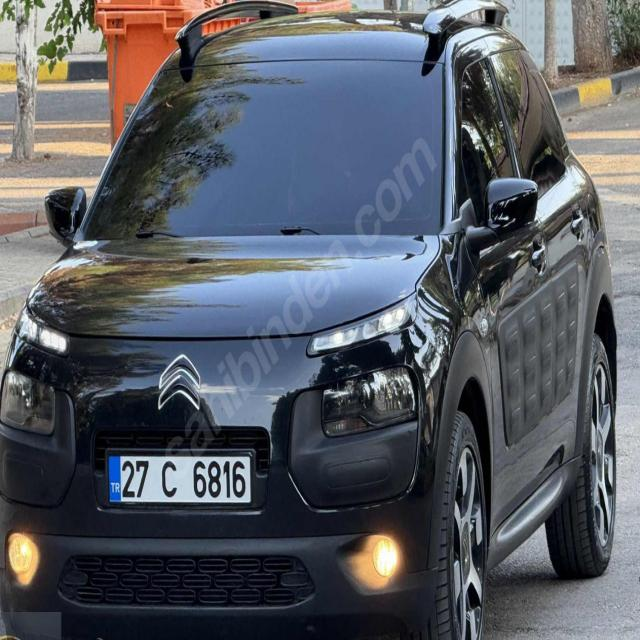citroen: (153, 347, 207, 414)
